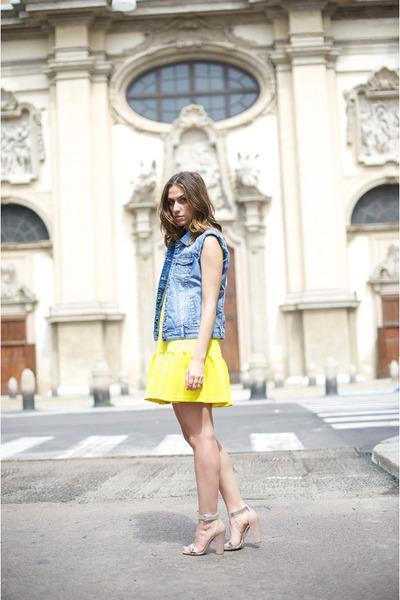jacket: (153, 234, 205, 340)
shoe: (183, 520, 263, 554)
skirt: (141, 324, 227, 404)
